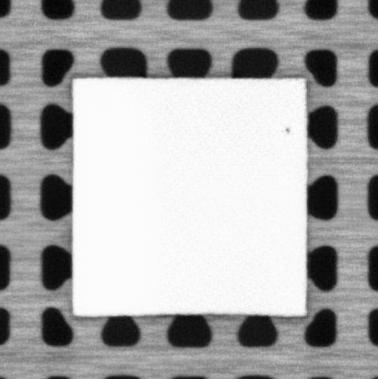DIE_INK: (283, 124, 292, 134)
